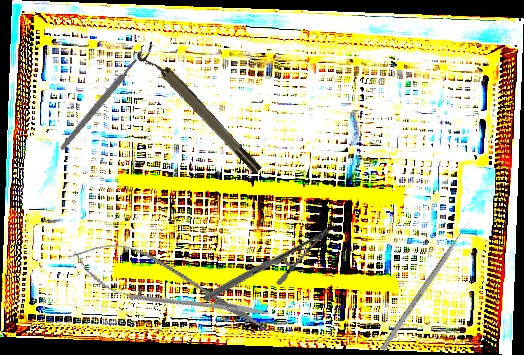Fixation Ring: (134, 40, 265, 182)
Micro Scissor: (65, 229, 277, 345)
Needle Holder: (202, 191, 332, 338)
Pusher: (380, 216, 474, 352)
Scalpel Handle: (58, 57, 140, 152)
